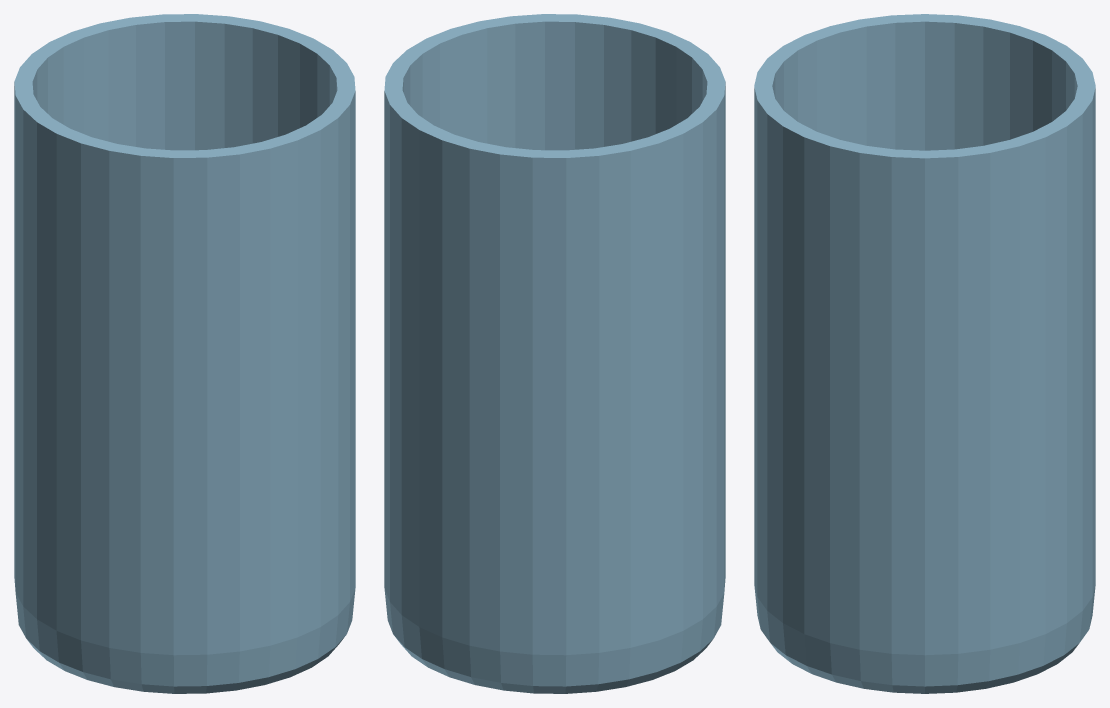
File: mediumCup.fbx
3 views of the same model, side by side, from view 1: azimuth 30°, elevation 25°; view 2: azimuth 150°, elevation 25°; view 3: azimuth 270°, elevation 25° (orthographic).
Visible parts, largest first — view 1: Medium Cup; view 2: Medium Cup; view 3: Medium Cup.
Boxes of the visible parts, bbox=[...] form: Medium Cup: bbox=[14, 14, 355, 693]; Medium Cup: bbox=[384, 14, 725, 693]; Medium Cup: bbox=[754, 14, 1095, 693].
Size of the model in its own units: 10.27 by 10.27 by 17.93.
